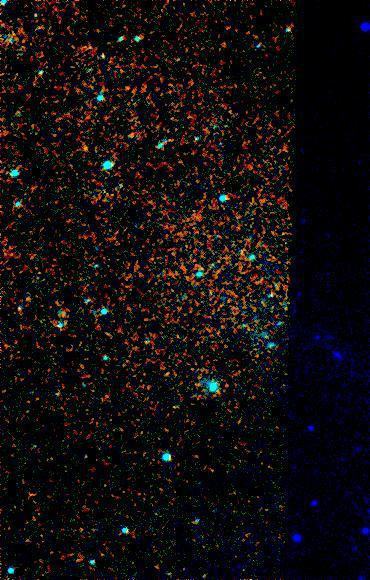star: (70, 133, 100, 163)
